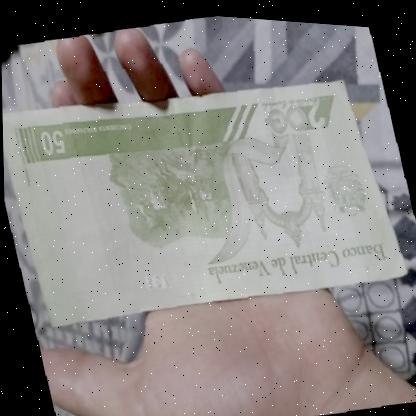fifty-back-vef: (1, 41, 409, 349)
